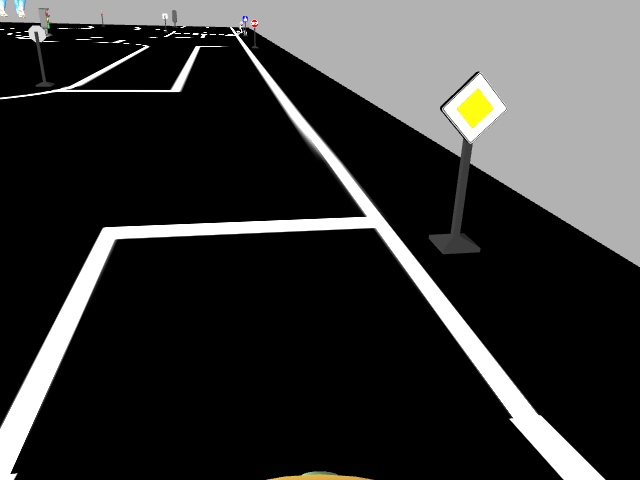Priority: (438, 71, 508, 141)
